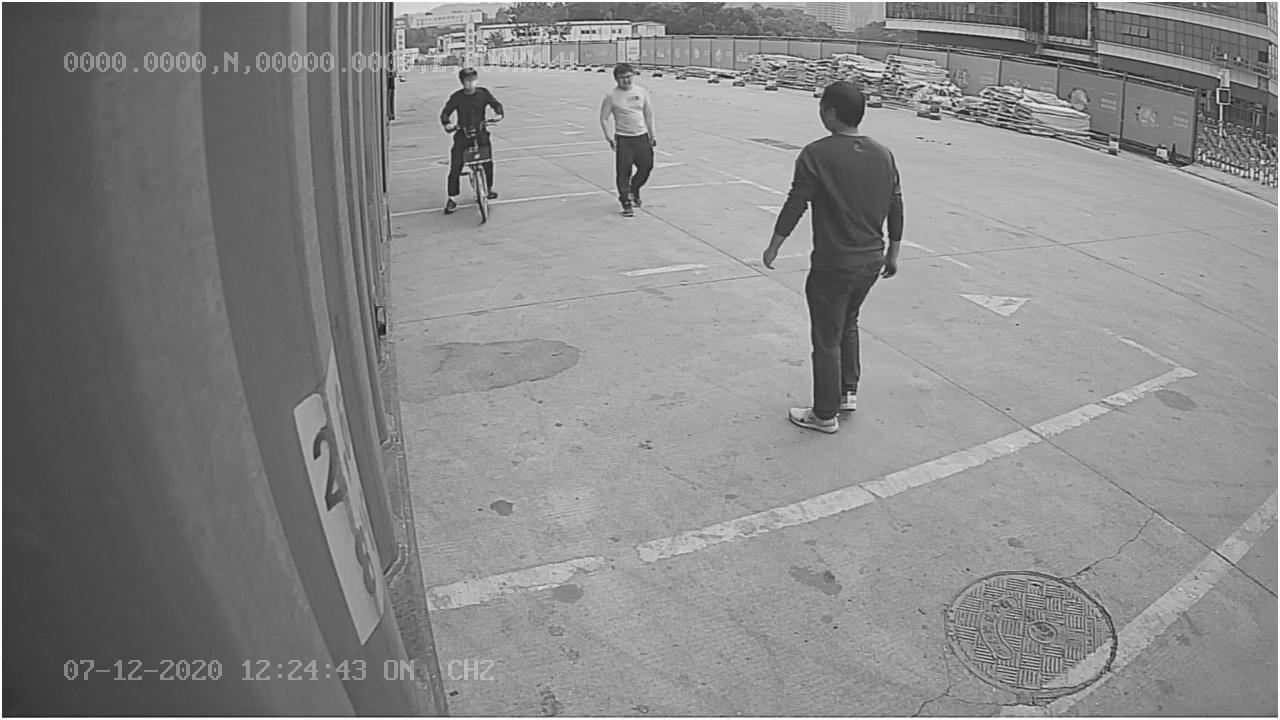person: (755, 75, 911, 441), (594, 60, 662, 219)
